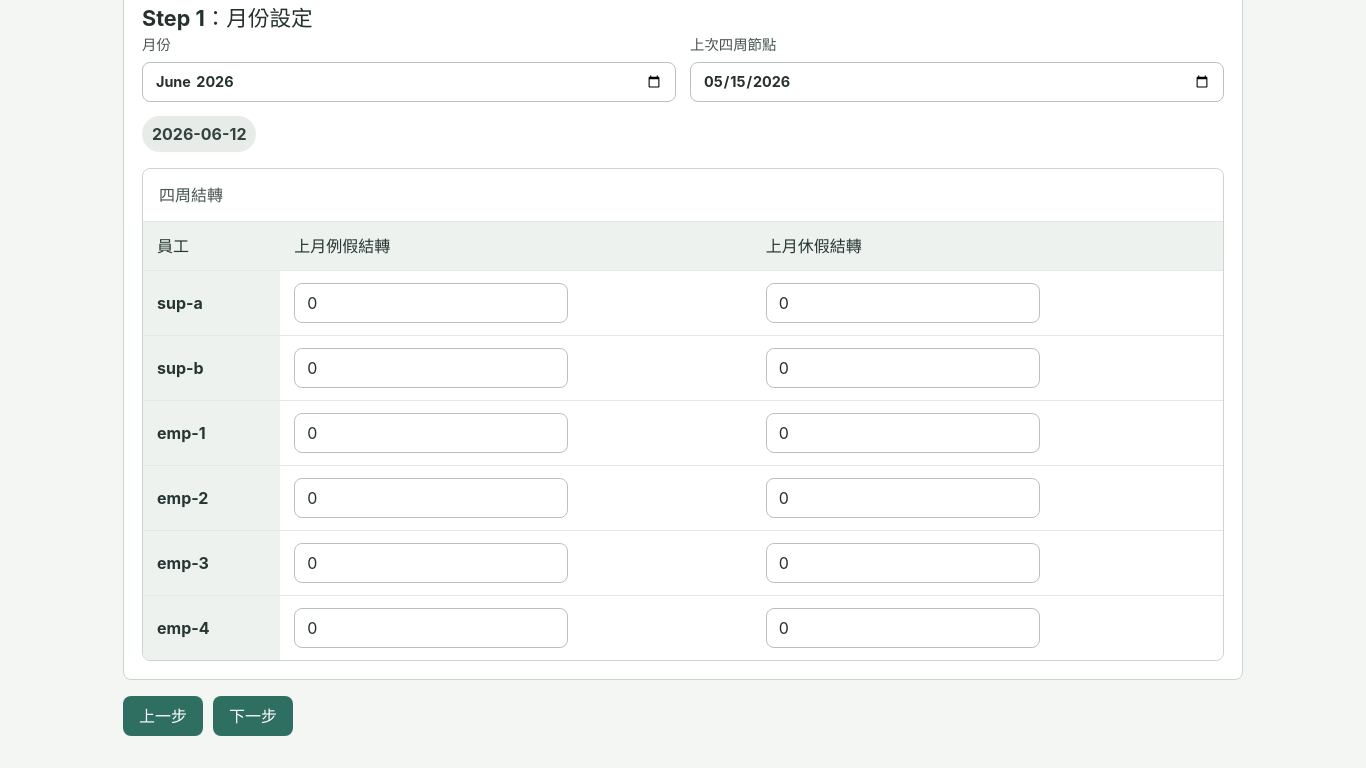
App › blocks generation when active employees are below staffing minimums
(page scrolled)
Click the button "下一步" at (253, 716), box [213, 696, 293, 736]
(page scrolled)
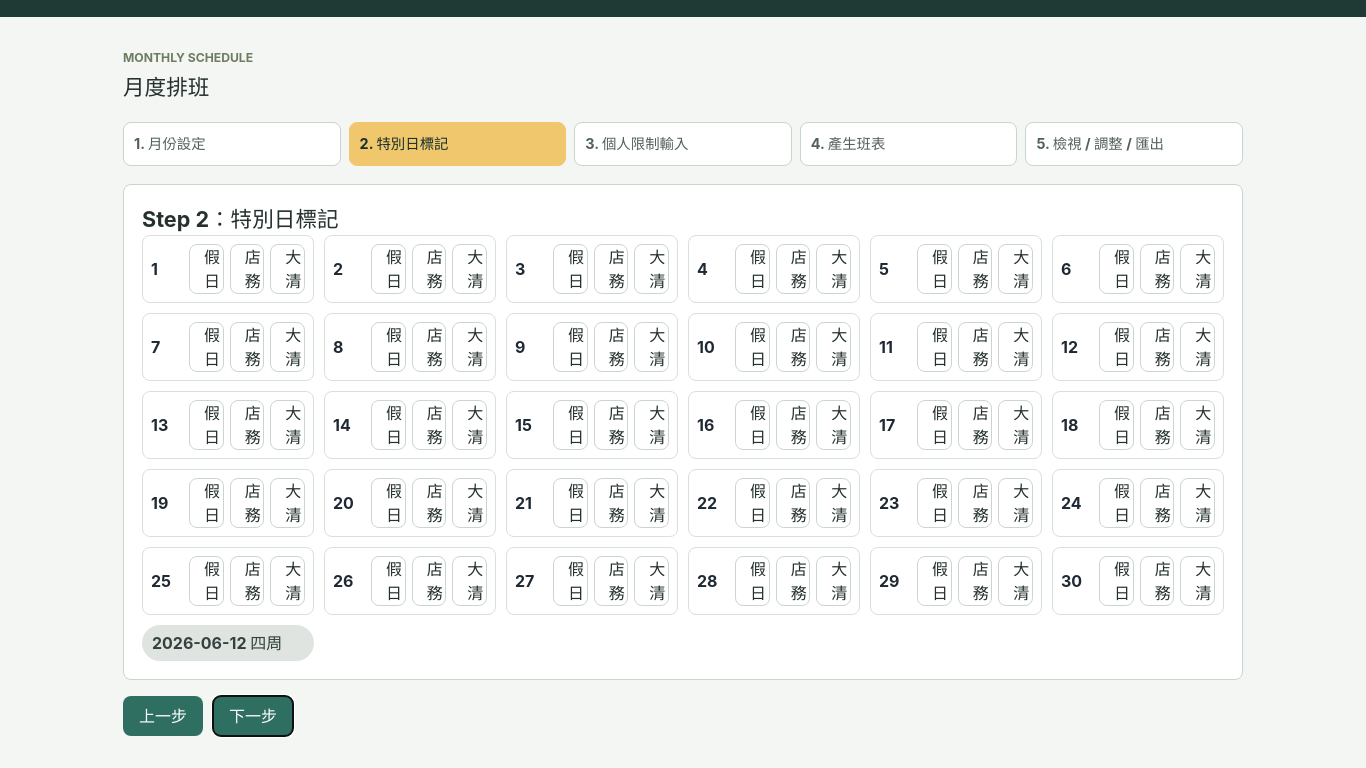
Click the button "下一步" at (253, 716), box [213, 696, 293, 736]
(page scrolled)
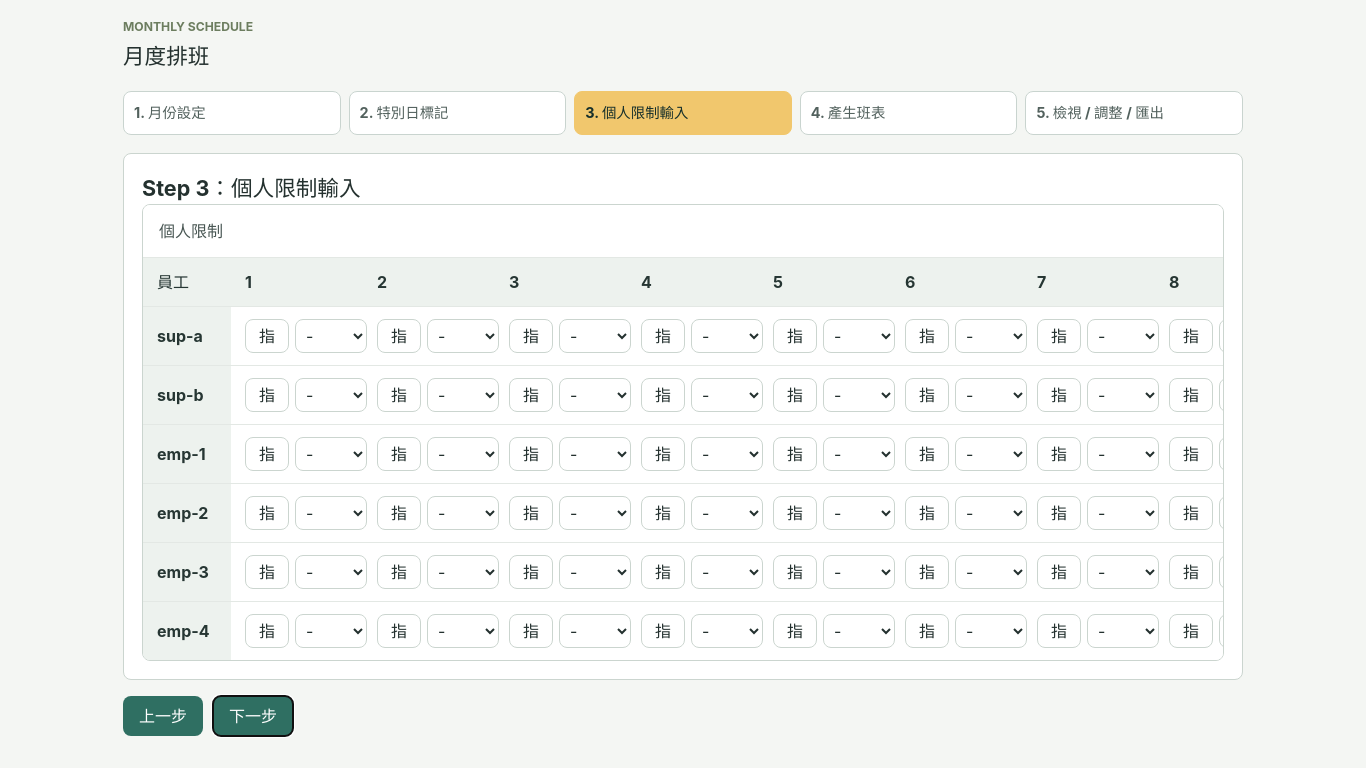
Click the button "下一步" at (253, 716), box [213, 696, 293, 736]
(page scrolled)
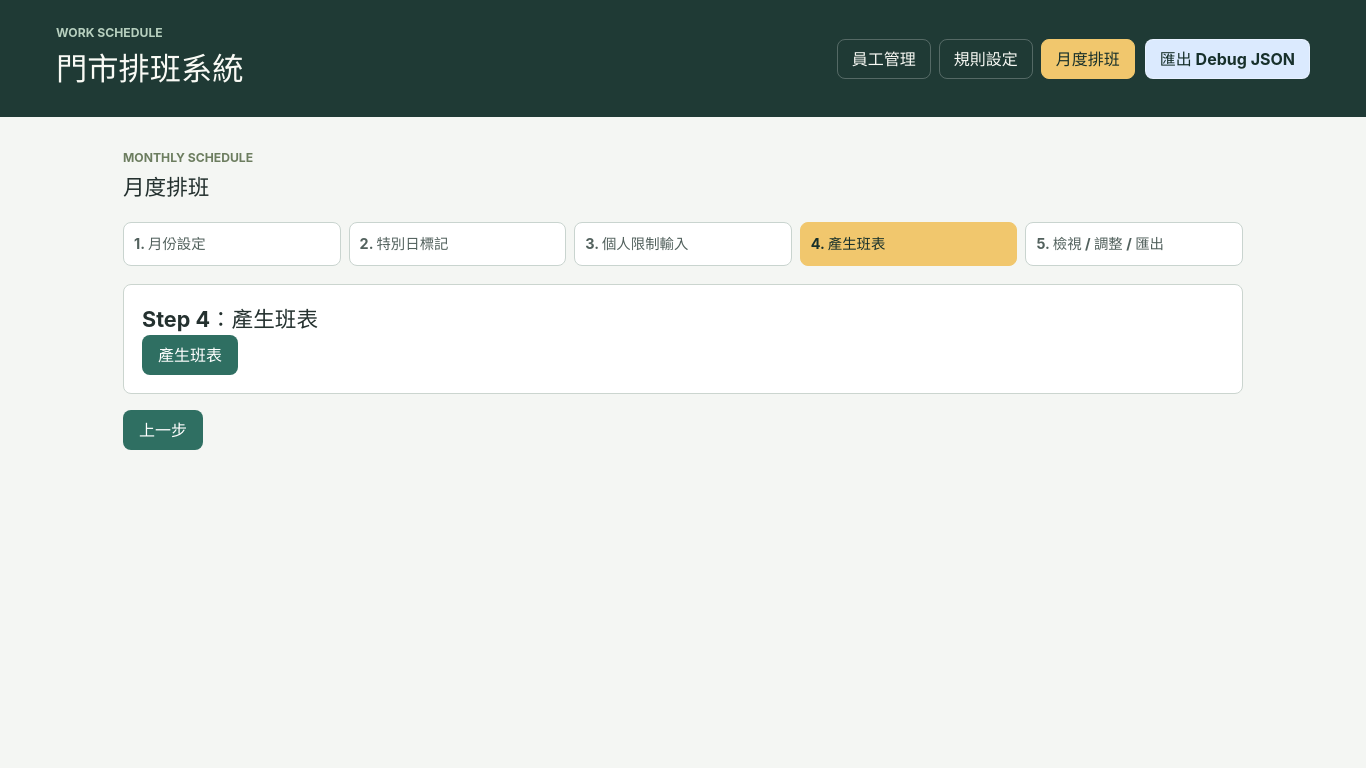
Click the button "產生班表" at (190, 355), box [142, 335, 238, 375]
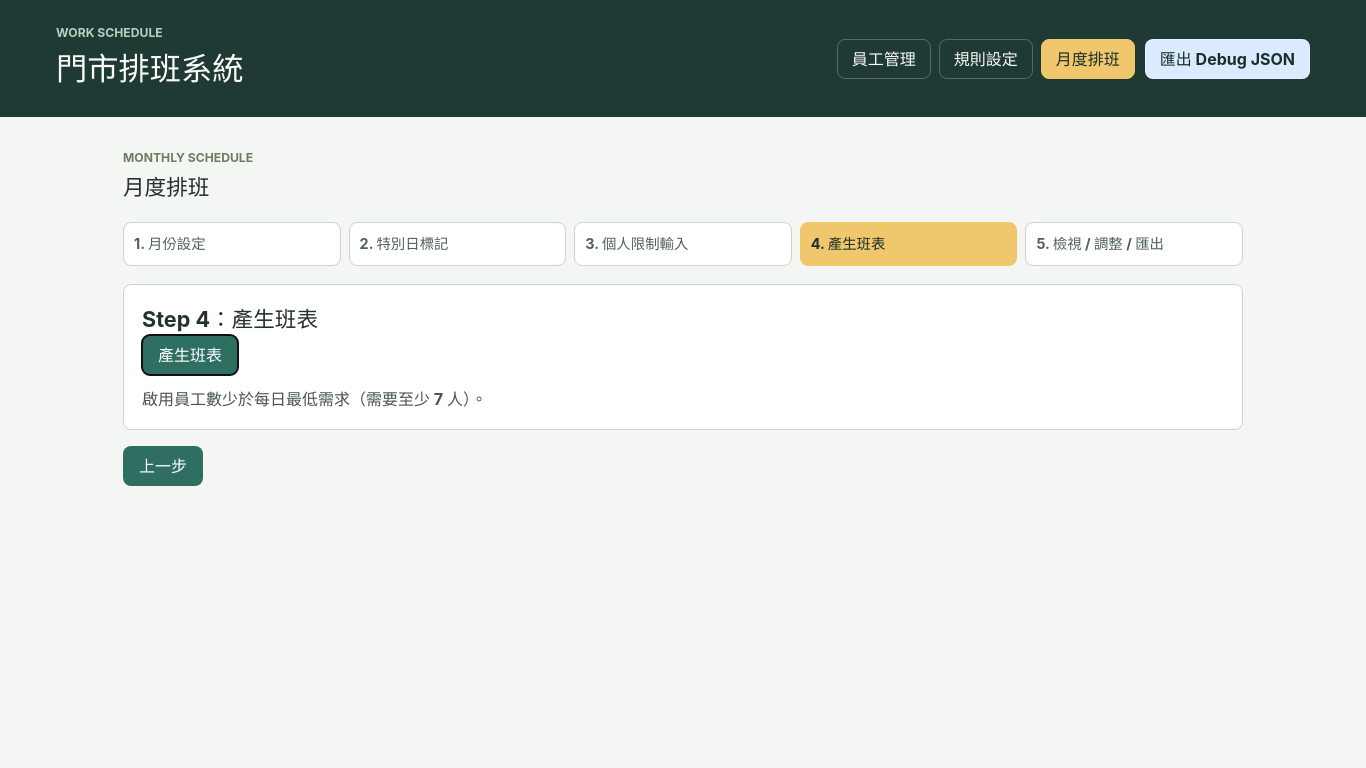
Now the heading "Step 4：產生班表" is shown, box [142, 306, 318, 332]
Now the text "啟用員工數少於每日最低需求（需要至少 7 人）。" is shown, box [142, 387, 487, 411]
